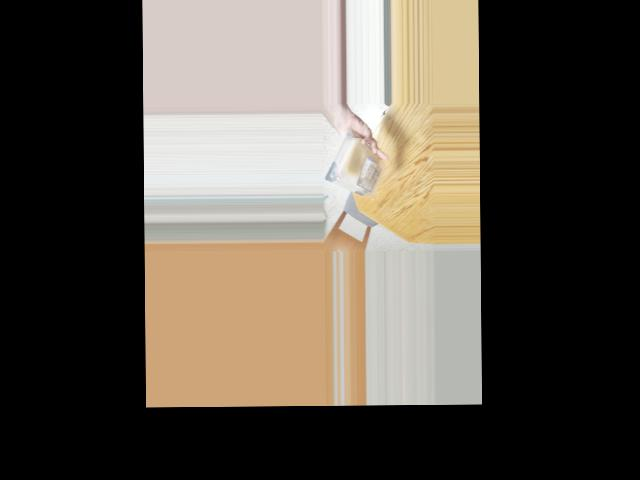cheese: (329, 130, 375, 197)
